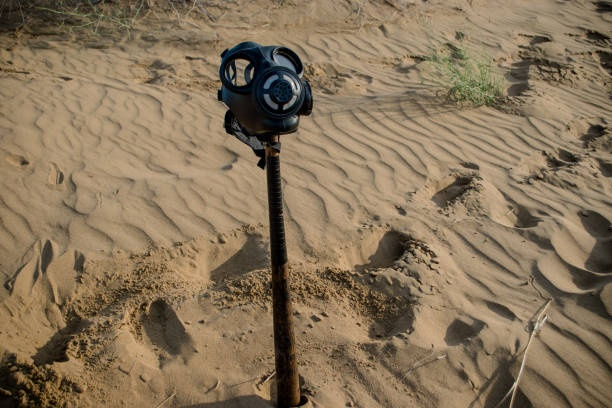bita: (256, 143, 306, 408)
